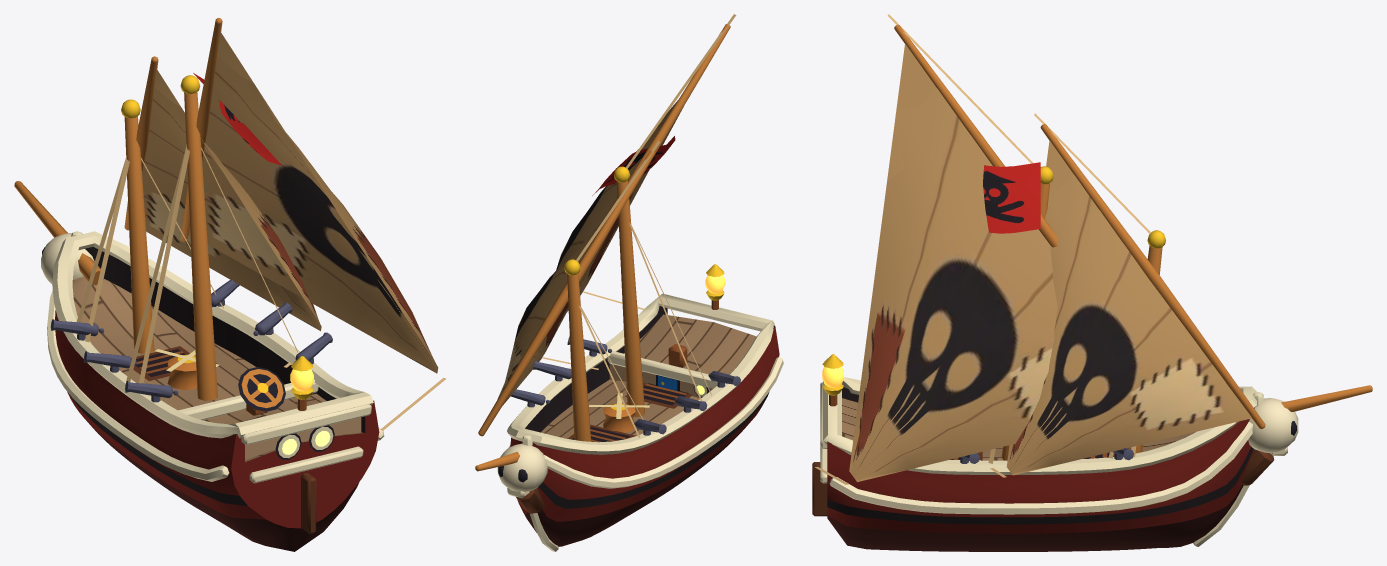
The model's file is brethren_skirmisher.glb.
The picture shows the model from 3 angles, left to right: view 1: azimuth 30°, elevation 25°; view 2: azimuth 150°, elevation 25°; view 3: azimuth 270°, elevation 25°; orthographic projection. The views are drawn at different scales.
Visible parts, largest first — view 1: Hull, Sail1_0, Rigging, Sail0_0, Guns0, Flag; view 2: Hull, Rigging, Sail0_0, Sail1_0, Guns0, Flag; view 3: Sail1_0, Hull, Sail0_0, Rigging, Flag.
Boxes of the visible parts, x1,y1,x2,y2 form: Hull: (41, 231, 384, 551); Sail1_0: (188, 31, 438, 373); Rigging: (14, 18, 446, 430); Sail0_0: (142, 68, 321, 331); Guns0: (50, 280, 332, 402); Flag: (193, 73, 281, 165); Hull: (497, 264, 783, 551); Rigging: (475, 14, 736, 471); Sail0_0: (497, 217, 612, 404); Sail1_0: (541, 100, 683, 344); Guns0: (511, 336, 740, 435); Flag: (592, 136, 675, 195); Sail1_0: (849, 44, 1057, 481); Hull: (812, 354, 1298, 551); Sail0_0: (1006, 140, 1251, 475); Rigging: (815, 14, 1372, 484); Flag: (983, 162, 1040, 233).
Size of the model in its own units: 0.9226 by 1.87 by 1.86.
Materials: 8 (4 with a texture image).
